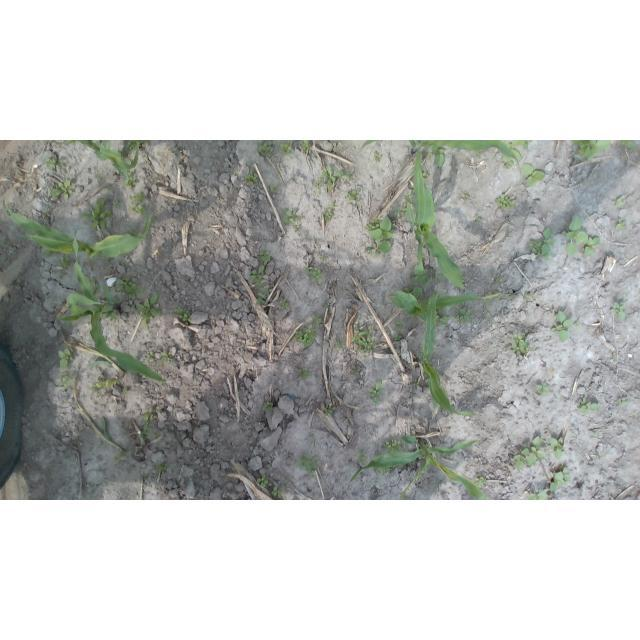Maize: (52, 259, 166, 386), (406, 147, 493, 300), (3, 197, 154, 261), (348, 435, 489, 500), (414, 290, 483, 419), (356, 141, 524, 178), (387, 291, 502, 324), (65, 141, 140, 184)
Weeds: (562, 215, 601, 257), (514, 436, 547, 469), (370, 216, 395, 254), (528, 227, 555, 261), (81, 199, 111, 229), (350, 325, 377, 357), (136, 293, 162, 325), (550, 311, 574, 344), (573, 141, 612, 160), (504, 141, 533, 162), (549, 466, 571, 492), (117, 278, 144, 299), (523, 164, 545, 188), (322, 166, 343, 191), (139, 409, 156, 439), (295, 455, 318, 477), (508, 333, 530, 356), (292, 328, 316, 349), (49, 180, 73, 200), (129, 193, 148, 215), (577, 397, 599, 415), (548, 437, 565, 460), (366, 380, 382, 404), (495, 194, 517, 210), (173, 307, 191, 326), (411, 265, 429, 284), (428, 149, 445, 168), (59, 349, 74, 370), (250, 266, 265, 287), (610, 302, 626, 321), (454, 307, 472, 323), (46, 158, 67, 171), (58, 373, 76, 388), (383, 440, 402, 453), (127, 141, 146, 154), (322, 203, 335, 222), (257, 141, 272, 157), (436, 310, 450, 327), (527, 489, 548, 500), (244, 170, 257, 187), (282, 209, 295, 226), (256, 287, 268, 305), (125, 170, 137, 188), (405, 286, 423, 298), (536, 382, 550, 397), (59, 255, 73, 269), (311, 268, 324, 282), (280, 141, 292, 156), (41, 249, 59, 259), (356, 450, 368, 464), (256, 474, 268, 488), (346, 188, 360, 200), (297, 368, 312, 379), (618, 140, 636, 149), (364, 221, 380, 231), (474, 474, 486, 487), (366, 247, 380, 258), (272, 487, 284, 499), (615, 218, 627, 230), (156, 462, 169, 473), (258, 251, 271, 262), (394, 206, 407, 217), (403, 190, 413, 204), (161, 352, 172, 364), (1, 236, 12, 248), (312, 315, 322, 327), (279, 299, 289, 310), (313, 178, 324, 188), (263, 401, 274, 411), (351, 364, 360, 376), (618, 397, 630, 406), (324, 404, 333, 416), (376, 468, 391, 475), (343, 171, 352, 182), (613, 198, 624, 207), (495, 273, 506, 282), (92, 279, 99, 293), (108, 313, 120, 321), (145, 353, 155, 362), (302, 141, 310, 152), (375, 150, 382, 162), (270, 184, 278, 194), (395, 322, 406, 329), (128, 230, 139, 237), (334, 342, 343, 350), (504, 162, 513, 170), (140, 473, 148, 481), (304, 265, 312, 273), (320, 255, 329, 262), (394, 334, 403, 341), (321, 302, 329, 309), (76, 289, 84, 296), (293, 225, 301, 232), (423, 172, 430, 180), (462, 194, 470, 201), (575, 320, 582, 328), (113, 201, 120, 208), (412, 382, 420, 388), (155, 430, 161, 438), (45, 295, 54, 300), (592, 431, 599, 437), (613, 352, 617, 362), (434, 276, 442, 281), (312, 440, 317, 446), (123, 388, 128, 394), (476, 218, 482, 223), (298, 215, 303, 219), (293, 177, 297, 181)
